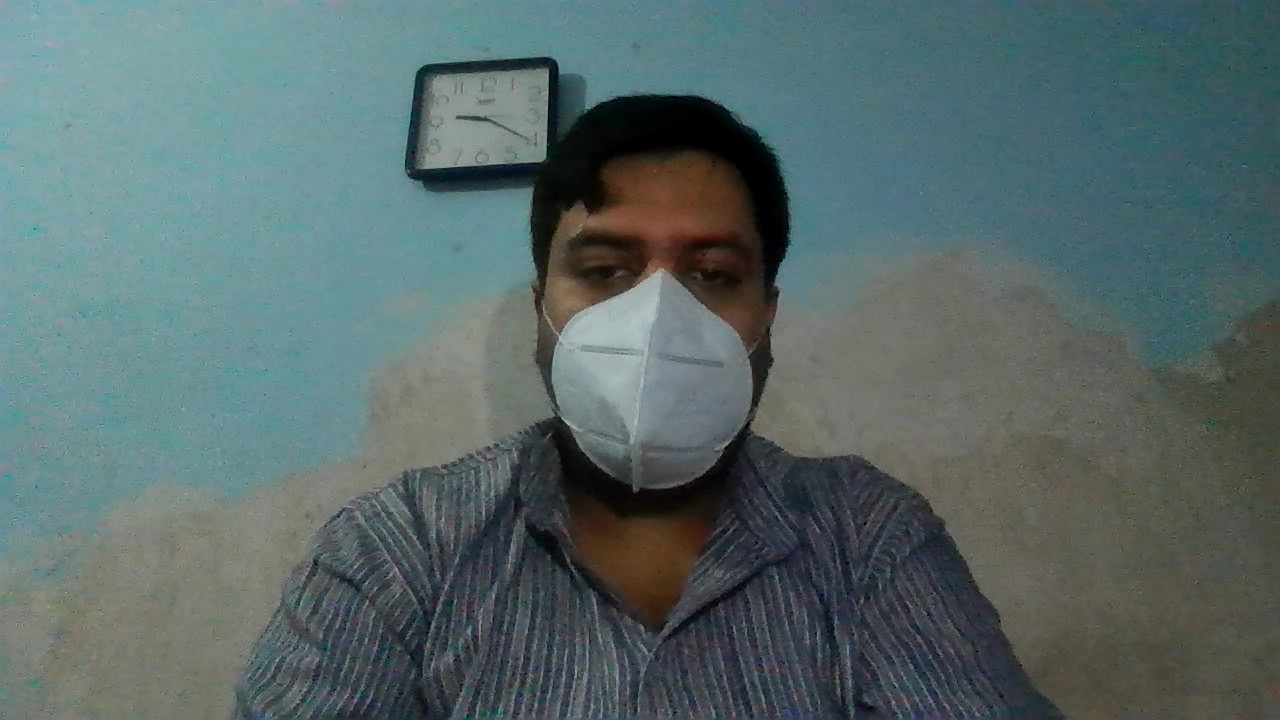Mask: (527, 276, 780, 500)
